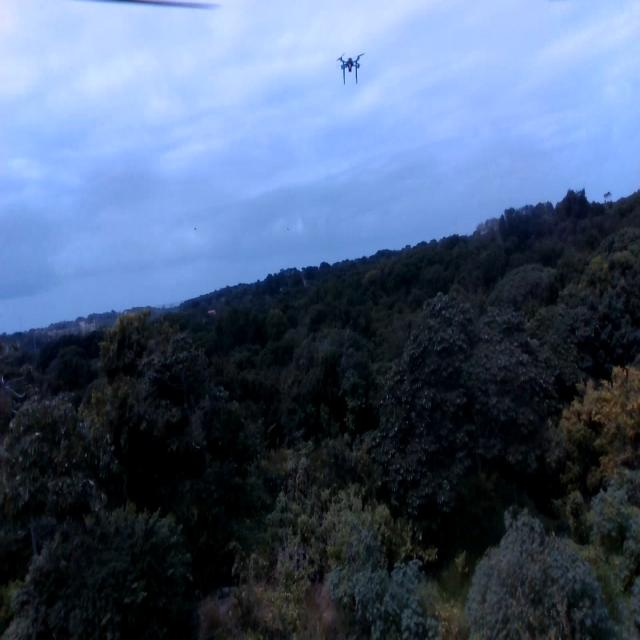-uav-: (333, 40, 370, 93)
